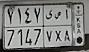1: (17, 8, 23, 47)
4: (24, 6, 33, 47)
7: (6, 8, 16, 46), (33, 7, 42, 45)
A: (63, 9, 72, 43)
V: (45, 10, 53, 43)
X: (54, 11, 62, 44)
